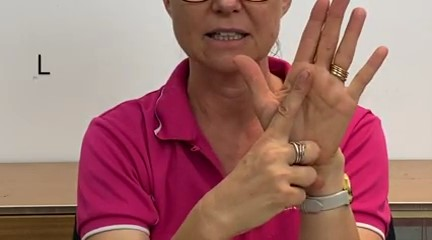L: (212, 3, 396, 233)
